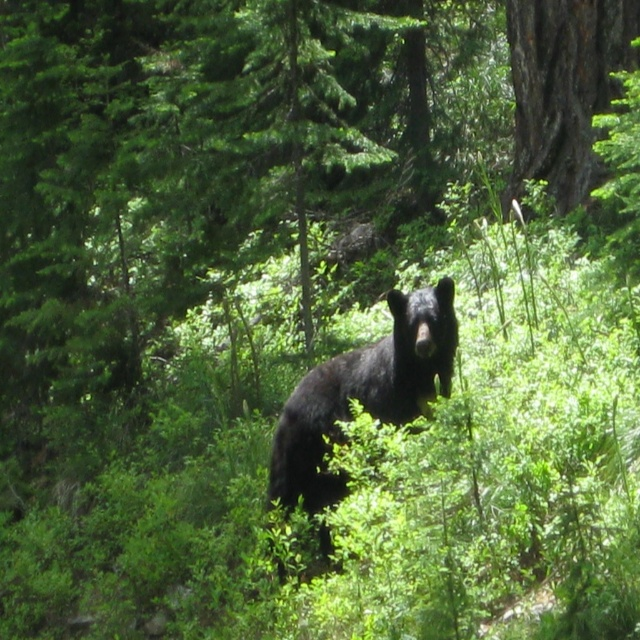Bear: (265, 278, 459, 583)
